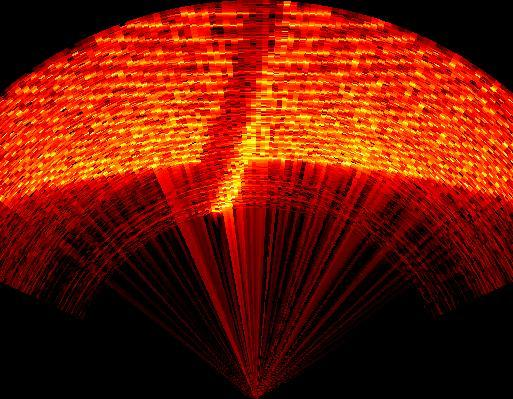pipe: (194, 2, 297, 213)
